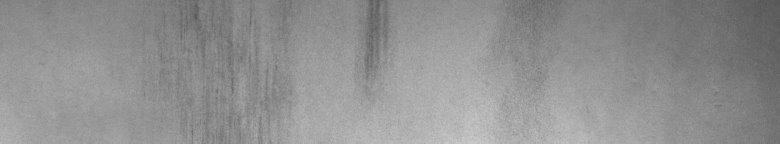ka: (356, 4, 391, 79)
